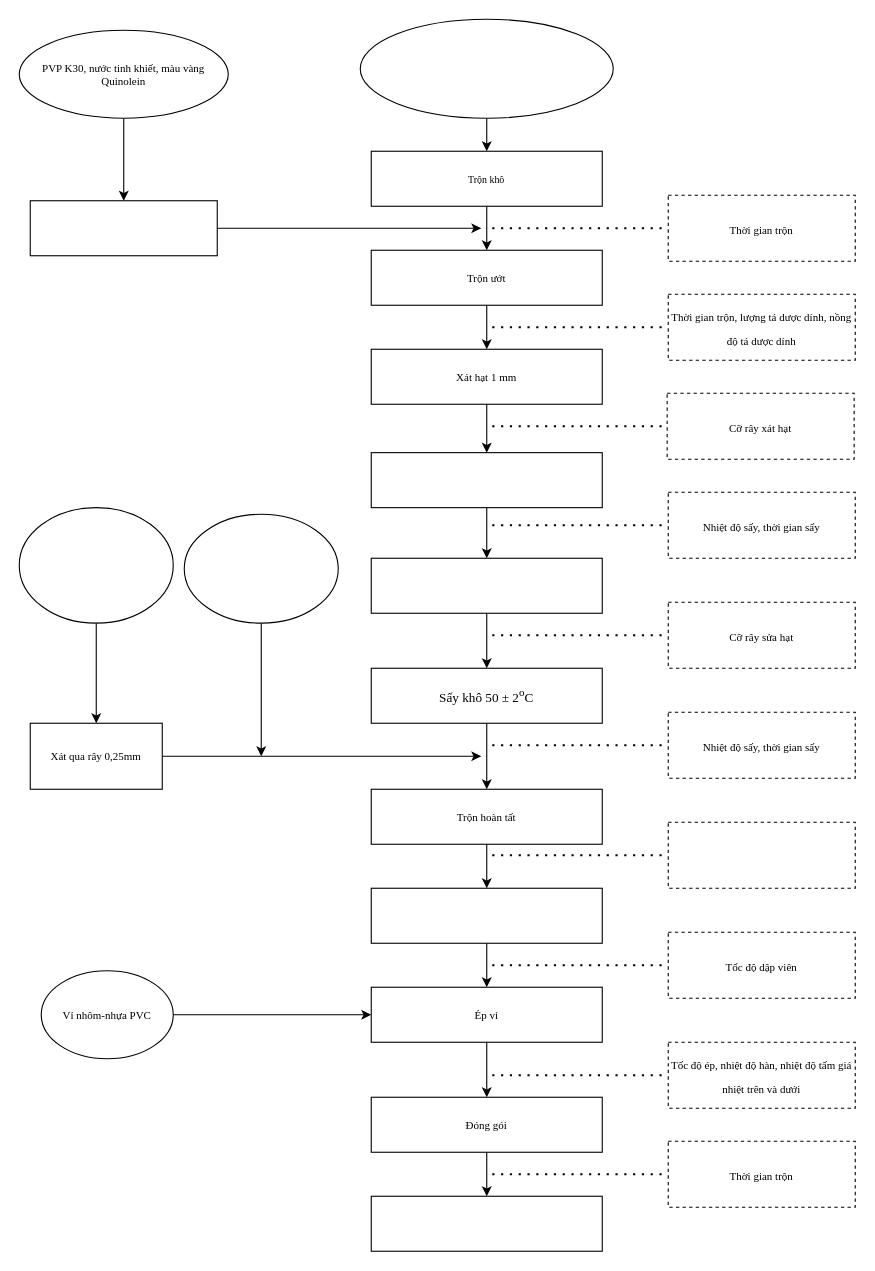
Some shapes in this 875 by 1271 pixel diagram are drawn without their labels. Each missing label, with the centre of its shape:
1/2 lượng microcrystalline cellulose: point (260, 568)
Dập viên: point (486, 915)
Hòa tan: point (123, 228)
Magnesi stearat, colloidal sillicon dioxide, croscarmellose sodium: point (95, 565)
Mifepriston,lactose monohydrat, 1/2 lượng microcrystalline cellulose: point (486, 68)
Sấy se 50 ± 2 o C: point (486, 480)
Sửa hạt 1 mm: point (486, 585)
Thành phẩm: point (486, 1223)
Thời gian trộn, tốc độ trộn: point (761, 854)
